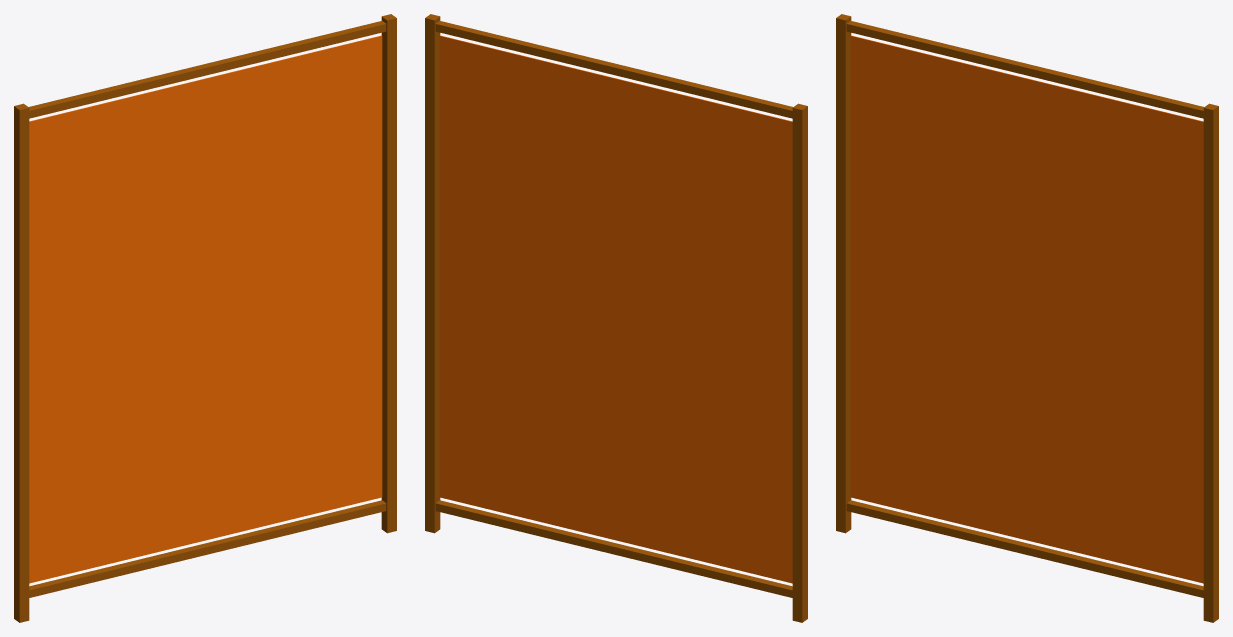
Rendered from fence_panel.glb.
The picture shows the model from 3 angles, left to right: view 1: azimuth 30°, elevation 25°; view 2: azimuth 150°, elevation 25°; view 3: azimuth 330°, elevation 25°; orthographic projection.
Visible parts, largest first — view 1: fence; view 2: fence; view 3: fence.
Boxes of the visible parts, x1=… form: fence: x1=14, y1=14, x2=396, y2=622; fence: x1=425, y1=14, x2=807, y2=622; fence: x1=836, y1=14, x2=1218, y2=622.
Size of the model in its own units: 1.54 by 2 by 0.04.
